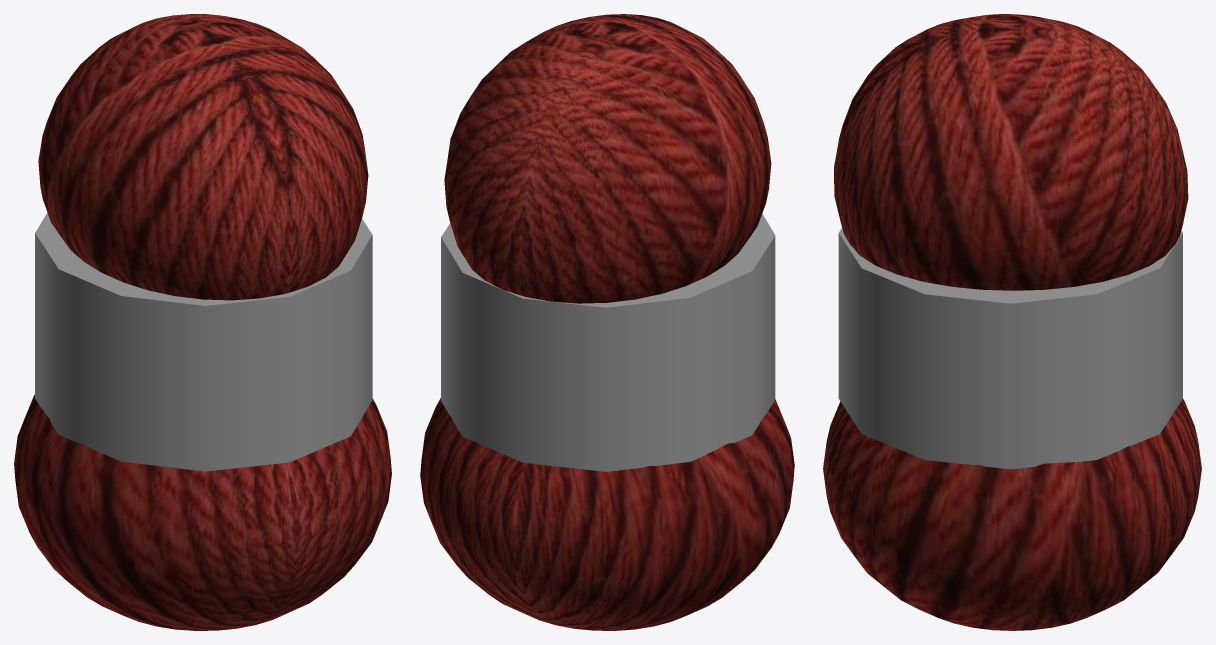
File: pelote_de_laine_3.fbx
3 views of the same model, side by side, from view 1: azimuth 30°, elevation 25°; view 2: azimuth 150°, elevation 25°; view 3: azimuth 270°, elevation 25° (orthographic).
Parts seen in each view (by area): view 1: Sphere001; view 2: Sphere001; view 3: Sphere001.
Boxes of the visible parts, x1,y1,x2,y2 form: Sphere001: (14,14,391,630); Sphere001: (420,14,794,630); Sphere001: (823,14,1201,630).
Size of the model in its own units: 281 by 476 by 281.
